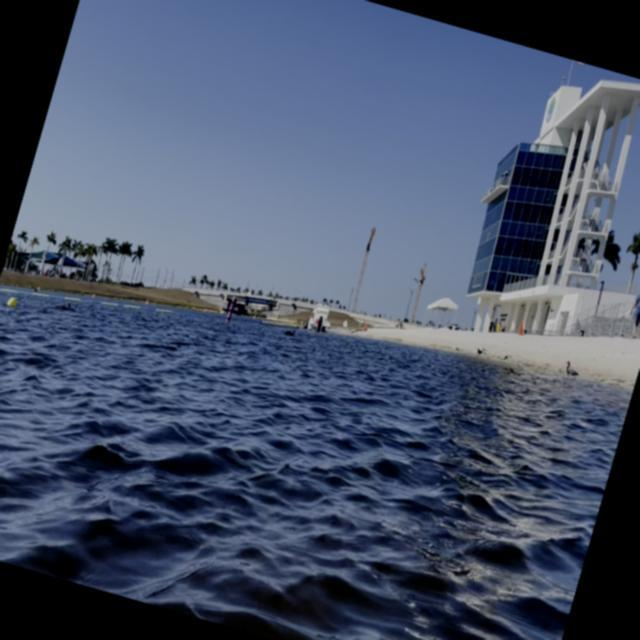buoy: (2, 292, 22, 312)
